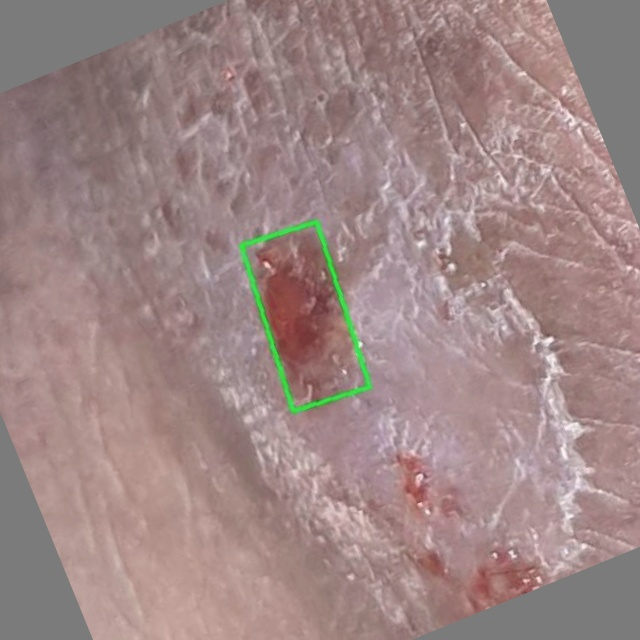Contact Dermatitis: (241, 222, 370, 411)
